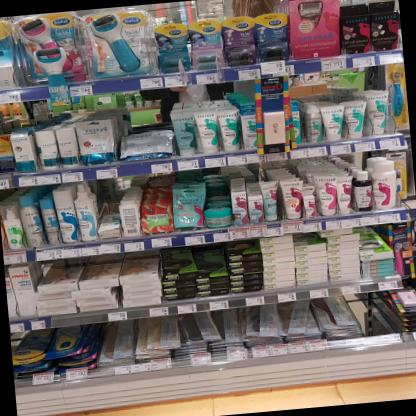empty_space: (370, 309, 393, 341)
